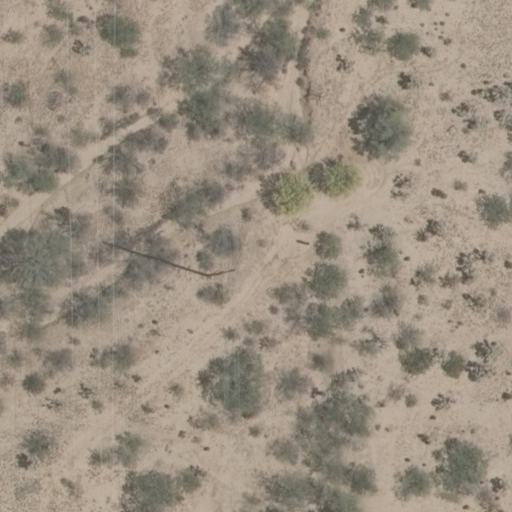DT: (201, 255, 244, 284)
